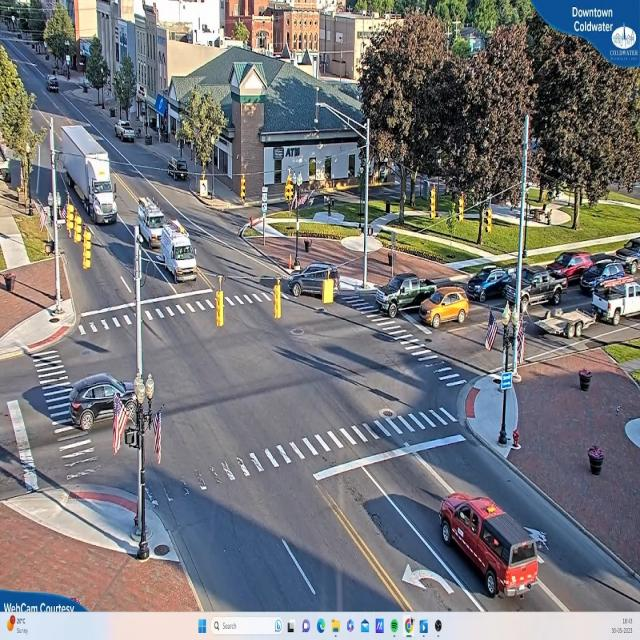car: (440, 492, 544, 599), (68, 127, 124, 223), (71, 373, 135, 430), (384, 275, 452, 317), (469, 269, 535, 304), (592, 279, 640, 323), (286, 264, 339, 303), (419, 290, 472, 328), (581, 264, 630, 296), (548, 252, 596, 278), (115, 122, 137, 144), (48, 80, 60, 93)
